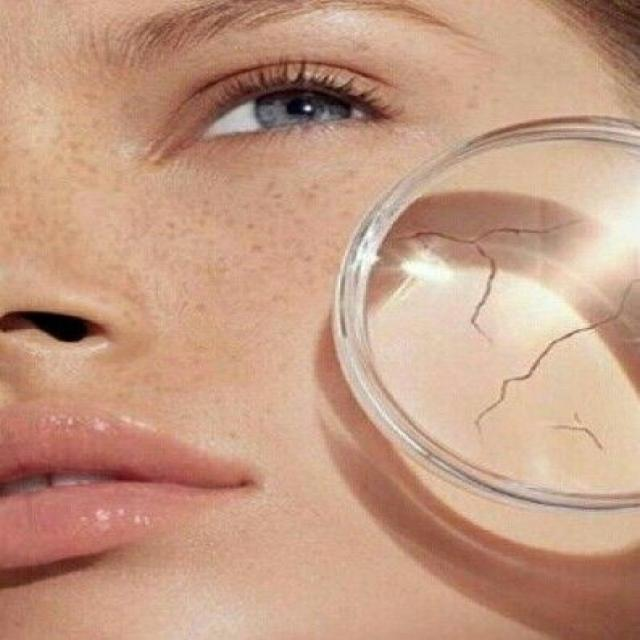Dry-Skin: (400, 174, 638, 469)
